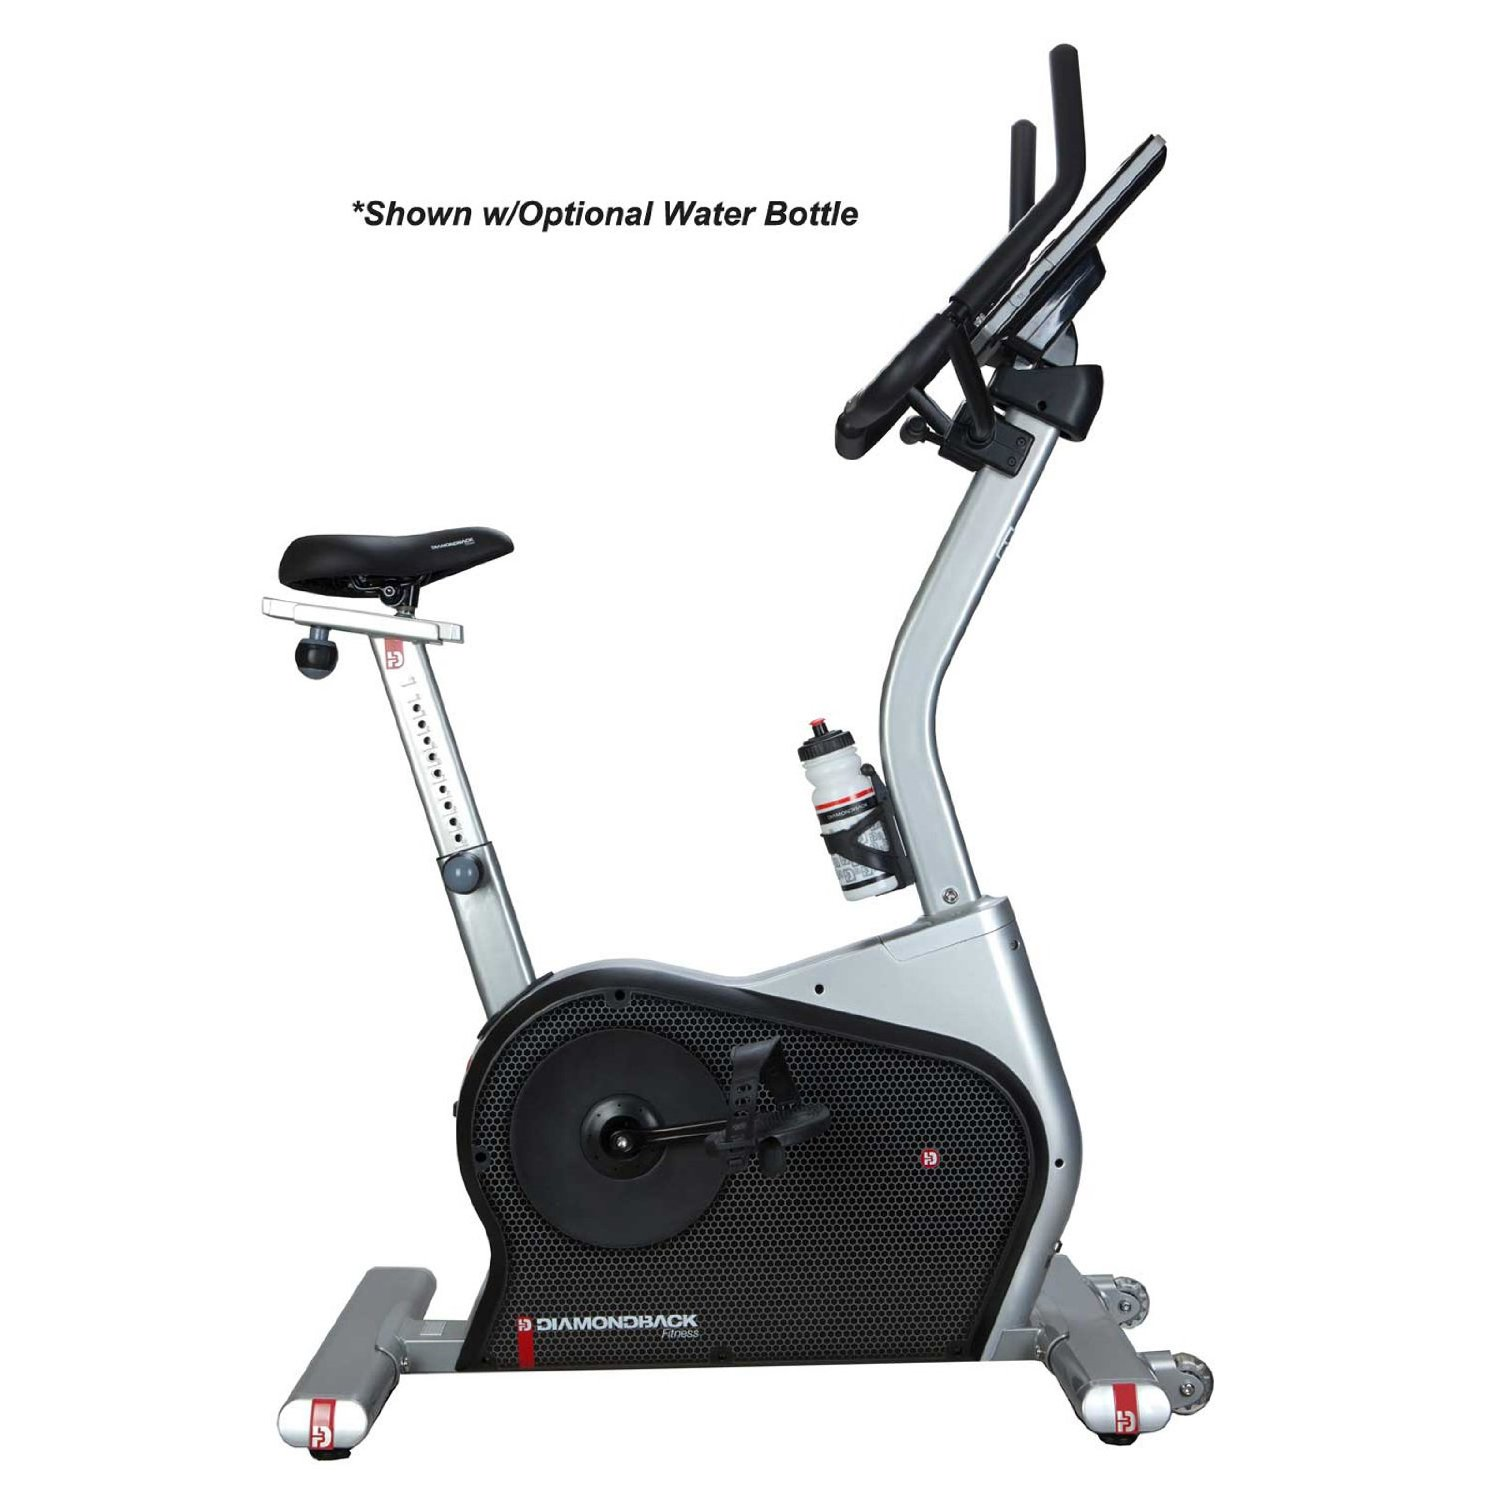gym_bike: (125, 58, 1229, 1459)
